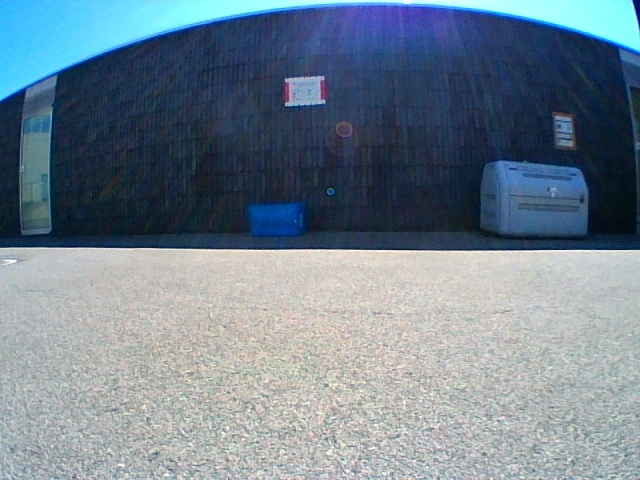blue_box: (248, 202, 303, 236)
